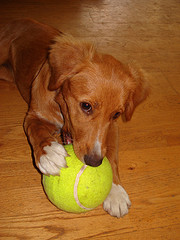tennis ball: (39, 141, 117, 215)
